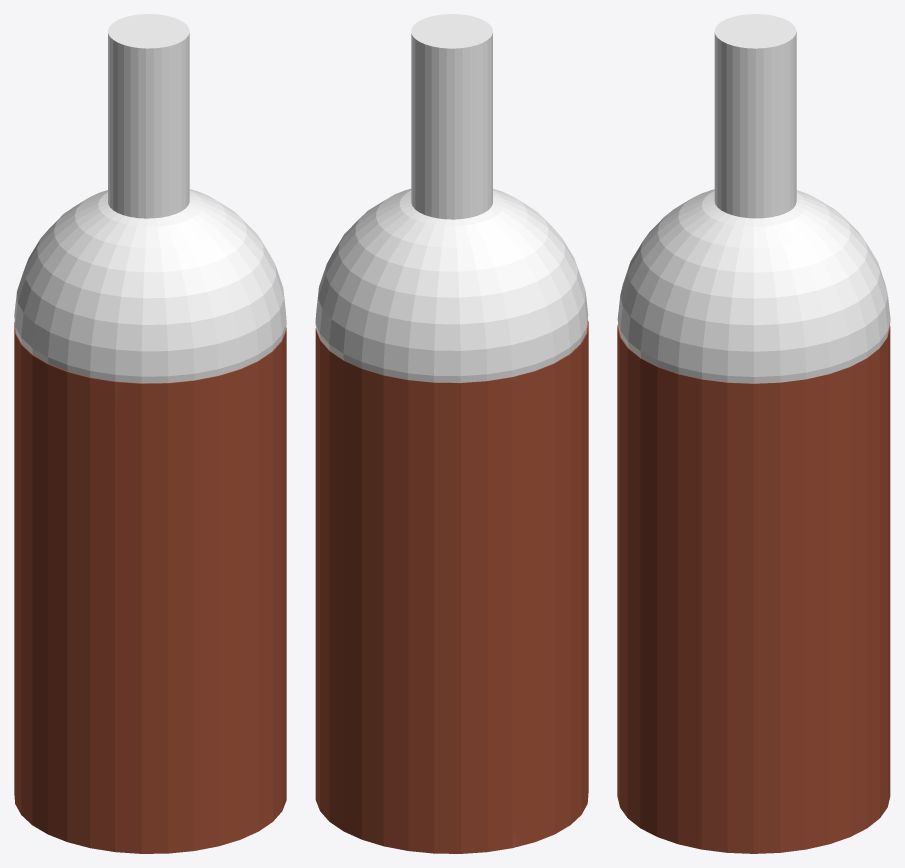
File: Bottle.glb
The picture shows the model from 3 angles, left to right: view 1: azimuth 30°, elevation 25°; view 2: azimuth 150°, elevation 25°; view 3: azimuth 270°, elevation 25°; orthographic projection.
Parts seen in each view (by area): view 1: Cylinder, Sphere, Cylinder.001; view 2: Cylinder, Sphere, Cylinder.001; view 3: Cylinder, Sphere, Cylinder.001.
Boxes of the visible parts, box(x1,y1,x2,y2) form: Cylinder: box(14, 322, 286, 853); Sphere: box(14, 189, 286, 383); Cylinder.001: box(108, 14, 189, 218); Cylinder: box(315, 320, 588, 853); Sphere: box(315, 188, 588, 382); Cylinder.001: box(411, 14, 492, 219); Cylinder: box(617, 324, 890, 853); Sphere: box(617, 189, 890, 383); Cylinder.001: box(714, 14, 796, 218).
Size of the model in its own units: 2 by 6.18 by 2.
3 materials, 1 textured.
